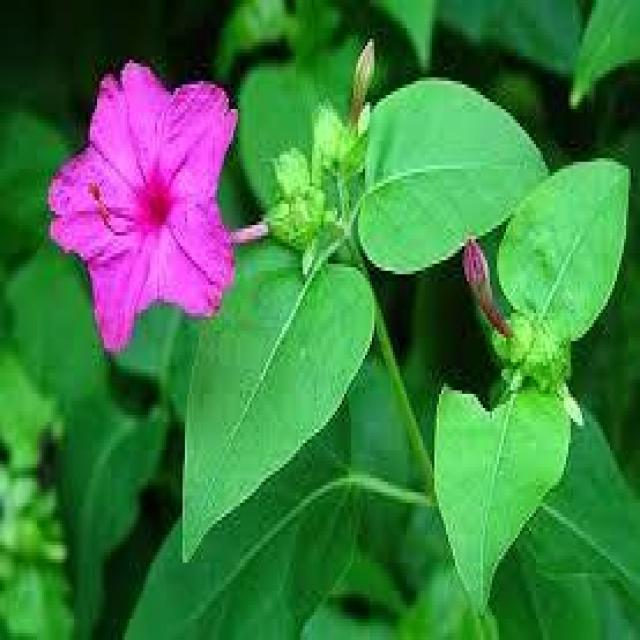organic waste: (47, 62, 253, 340)
